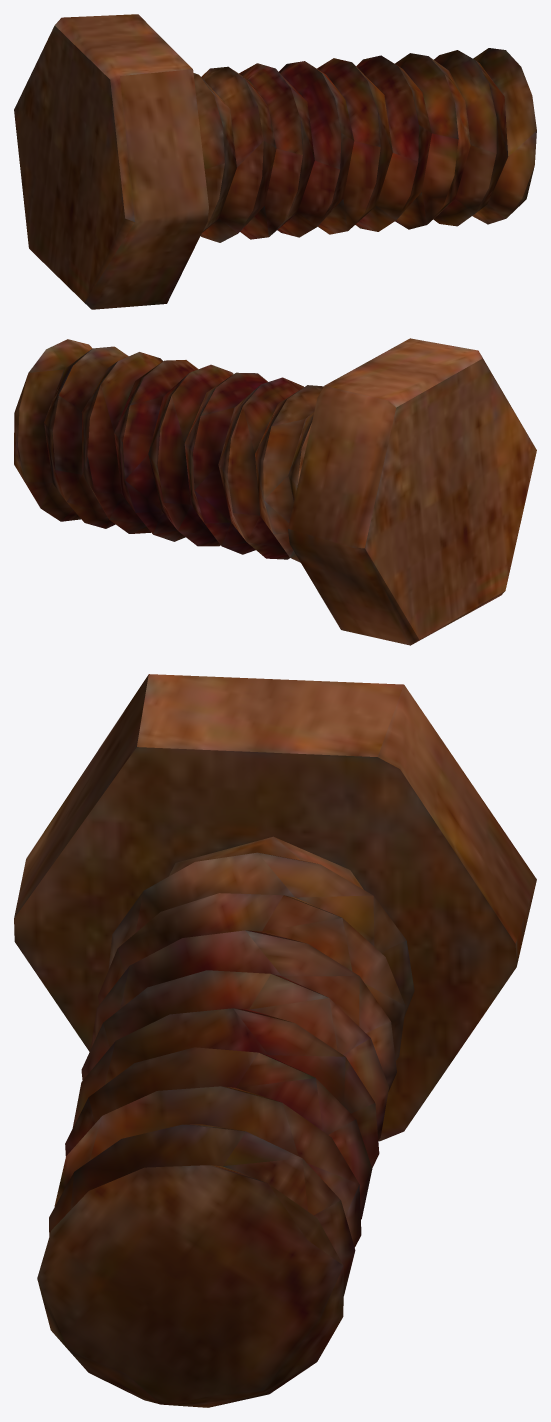
File: bolts_nuts_05.glb
3 renders of one model, top to bottom at view 1: azimuth 30°, elevation 25°; view 2: azimuth 150°, elevation 25°; view 3: azimuth 270°, elevation 25°, orthographic. The views are drawn at different scales.
Visible parts, largest first — view 1: bolts_nuts_05; view 2: bolts_nuts_05; view 3: bolts_nuts_05.
Boxes of the visible parts, left/top/right/bottom form: bolts_nuts_05: left=14, top=14, right=536, bottom=309; bolts_nuts_05: left=14, top=338, right=536, bottom=645; bolts_nuts_05: left=14, top=674, right=536, bottom=1407.
Size of what is drawn, in the model's own units: 0.0772 by 0.0404 by 0.0453.
1 material, 1 textured.
